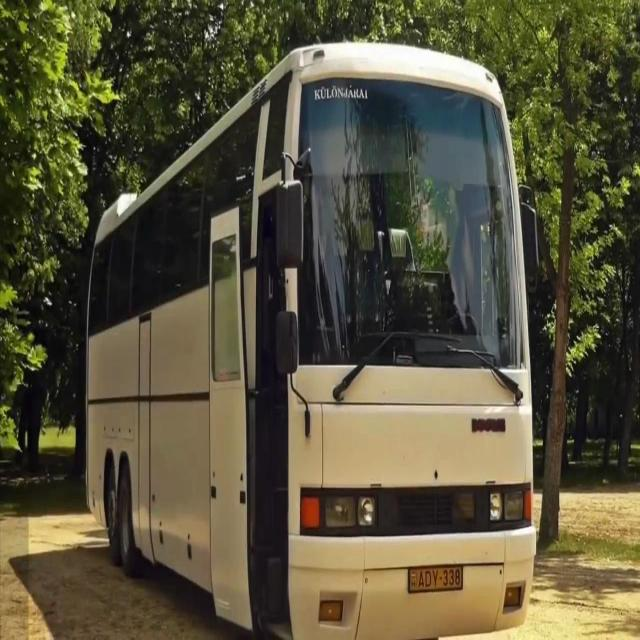bus: (77, 32, 539, 640)
